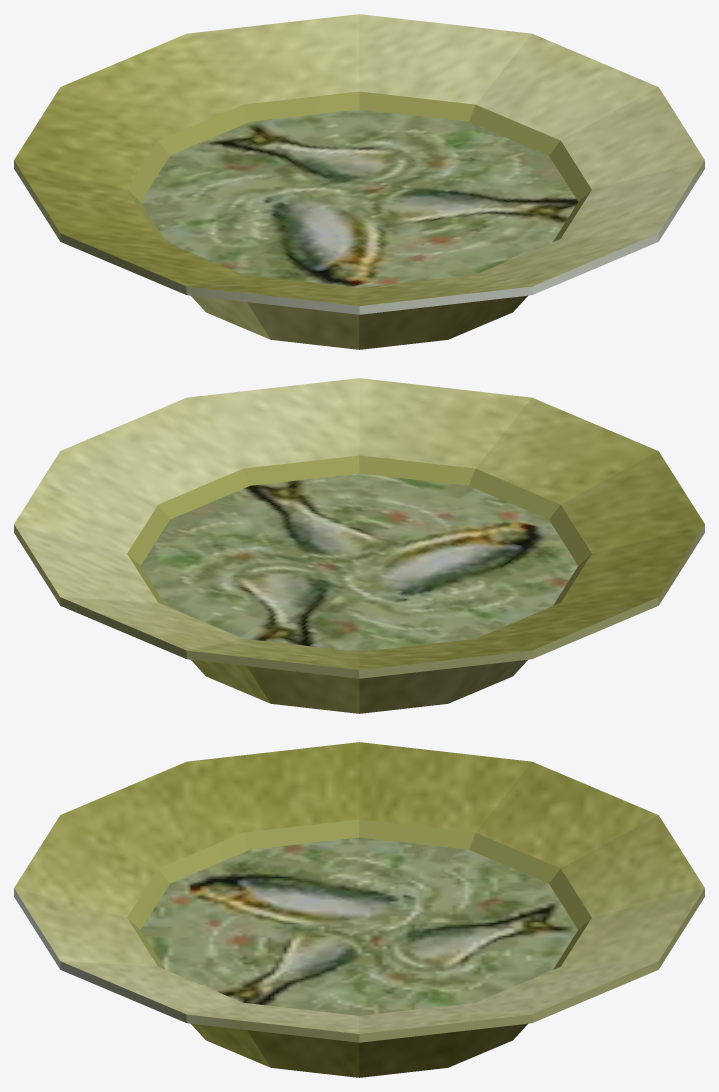
File: ITFO_FISHSOUP.glb
The picture shows the model from 3 angles, top to bottom: view 1: azimuth 30°, elevation 25°; view 2: azimuth 150°, elevation 25°; view 3: azimuth 270°, elevation 25°; orthographic projection.
Visible parts, largest first — view 1: ITFO_FISHSOUP; view 2: ITFO_FISHSOUP; view 3: ITFO_FISHSOUP.
Boxes of the visible parts, x1,y1,x2,y2 form: ITFO_FISHSOUP: [14, 14, 704, 349]; ITFO_FISHSOUP: [14, 378, 704, 713]; ITFO_FISHSOUP: [14, 742, 704, 1077].
Bounding box in the file's own units: 0.342 × 0.0627 × 0.342.
2 materials, 1 textured.
